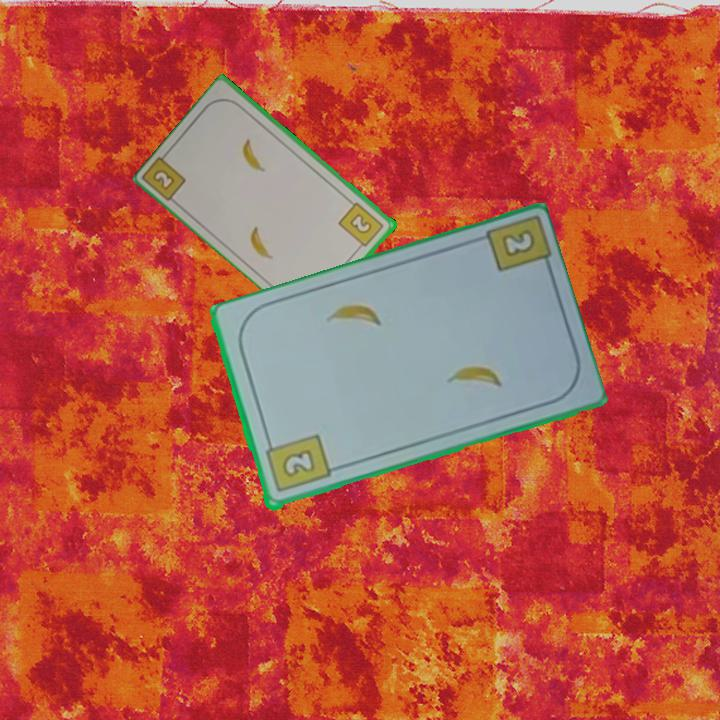2b: (261, 431, 333, 496), (335, 199, 387, 253), (497, 225, 538, 261), (149, 166, 178, 193)
